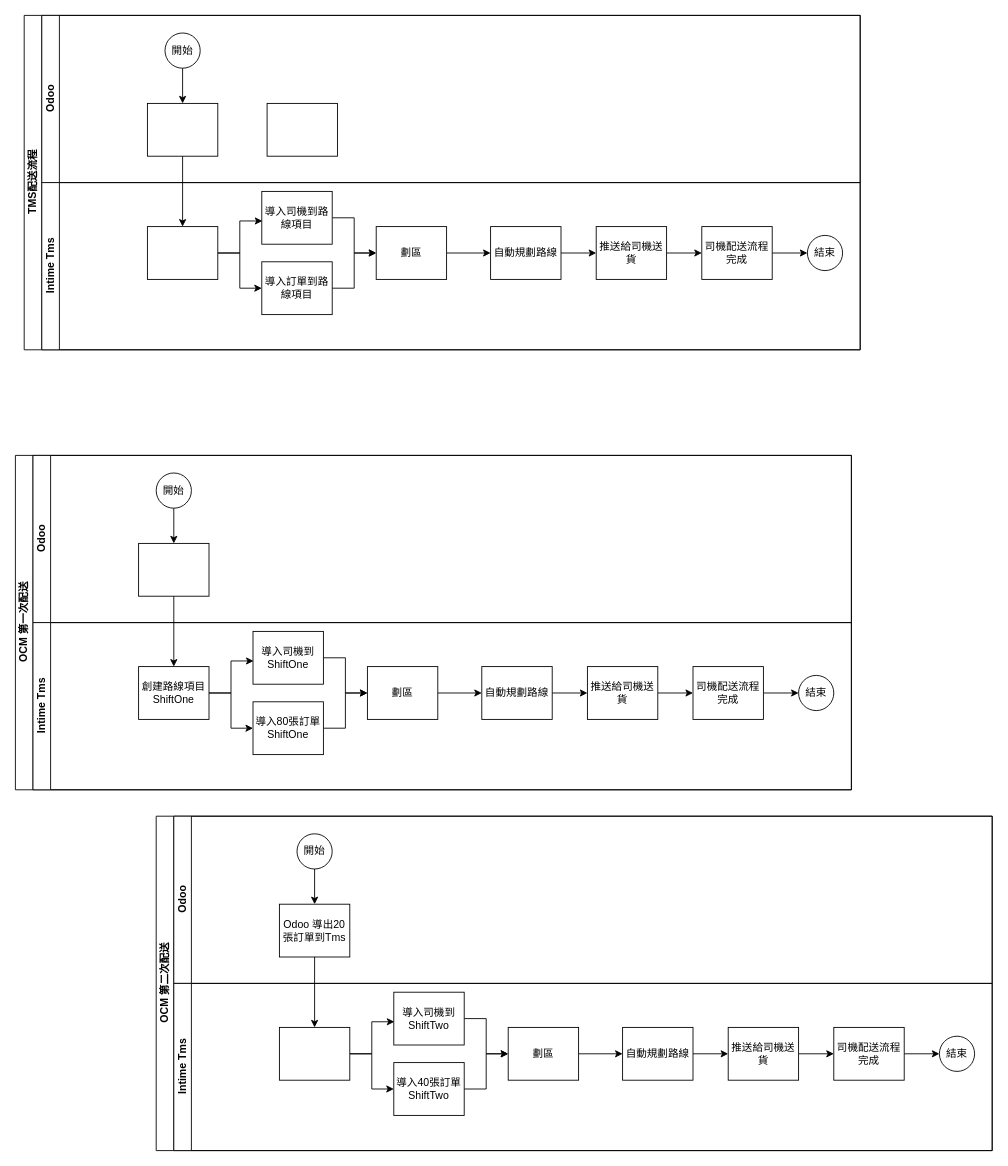
Some shapes in this 1008 by 1166 pixel diagram are drawn without their labels. Here are the shapes that lost their labels. From the top down, the centre of each, then its label:
At (182,129): "Odoo 以Excel導出訂單".
At (301,129): "Odoo 導出訂單到Tms".
At (182,252): "創建路線項目".
At (173,569): "Odoo 導出100張訂單到Tms".
At (314,1053): "創建路線項目ShiftTwo".
